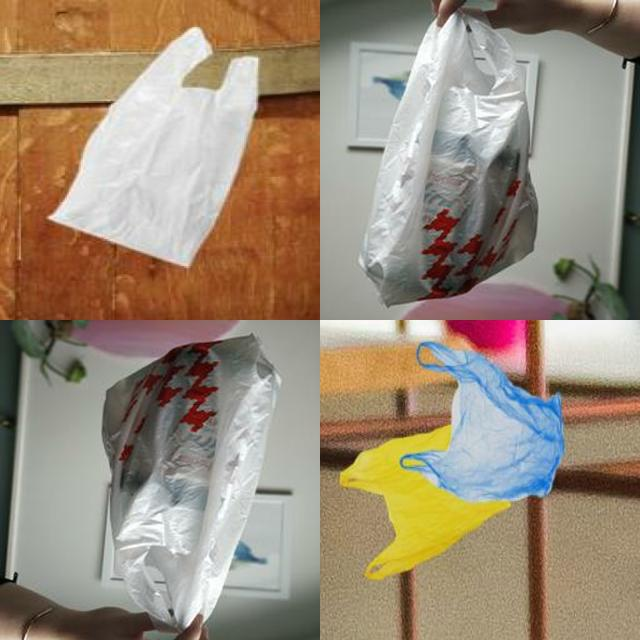Single-layer Plastic: (102, 335, 280, 629), (359, 14, 538, 306), (50, 28, 258, 266), (340, 425, 511, 579), (401, 342, 565, 501)
